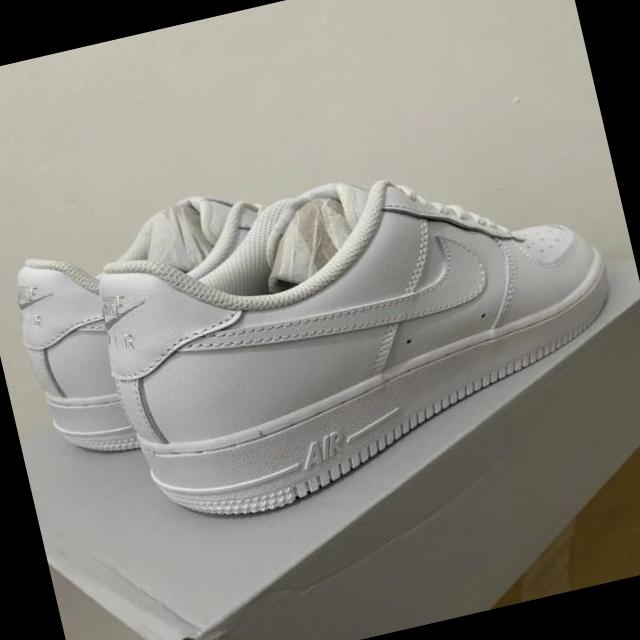nike_original_airforce: (78, 121, 640, 538), (0, 167, 365, 472)
